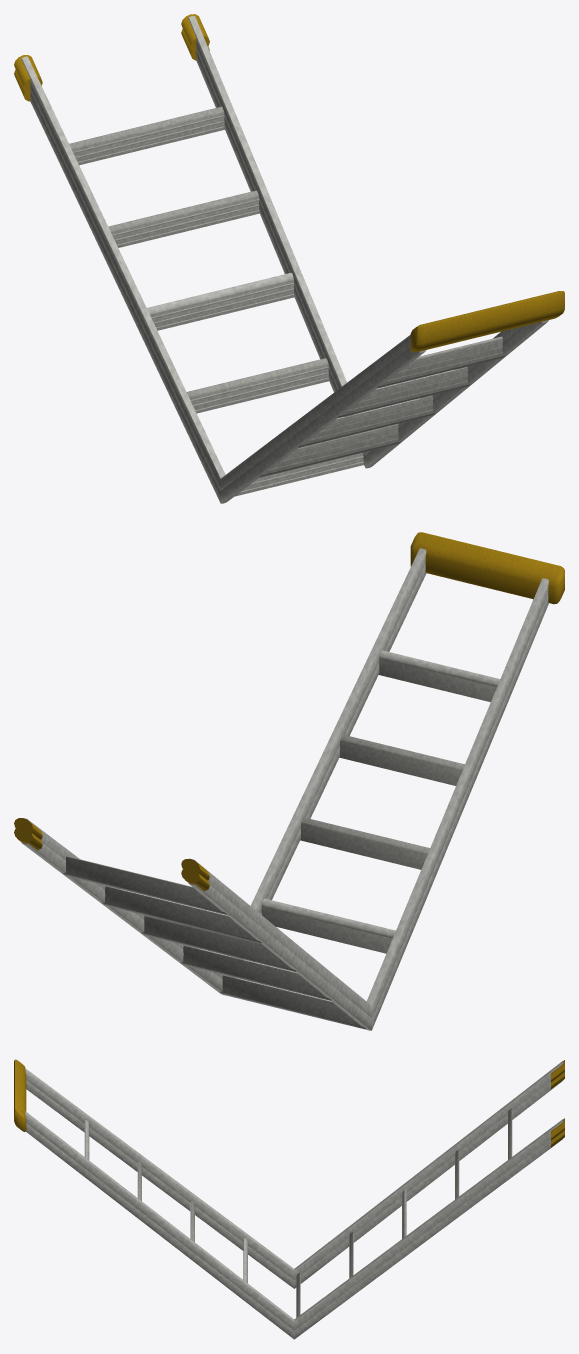
The model's file is ladder_bent.glb.
The picture shows the model from 3 angles, top to bottom: view 1: azimuth 30°, elevation 25°; view 2: azimuth 150°, elevation 25°; view 3: azimuth 270°, elevation 25°; orthographic projection. The views are drawn at different scales.
Visible parts, largest first — view 1: Ladder_Bent_steps, Ladder_Bent_rails, Ladder_Bent_cap, Ladder_Bent_feet; view 2: Ladder_Bent_rails, Ladder_Bent_steps, Ladder_Bent_cap, Ladder_Bent_feet; view 3: Ladder_Bent_rails, Ladder_Bent_steps, Ladder_Bent_cap, Ladder_Bent_feet.
Part boxes in pixels (box(x1,y1,x2,y2)): Ladder_Bent_steps: box(69, 106, 505, 496); Ladder_Bent_rails: box(21, 16, 548, 503); Ladder_Bent_cap: box(410, 291, 564, 352); Ladder_Bent_feet: box(14, 14, 209, 101); Ladder_Bent_rails: box(21, 548, 548, 1030); Ladder_Bent_steps: box(63, 658, 496, 1029); Ladder_Bent_cap: box(410, 532, 564, 604); Ladder_Bent_feet: box(14, 818, 209, 890); Ladder_Bent_rails: box(25, 1061, 563, 1339); Ladder_Bent_steps: box(84, 1108, 512, 1317); Ladder_Bent_cap: box(14, 1059, 26, 1131); Ladder_Bent_feet: box(551, 1060, 564, 1147).
Size of the model in its own units: 0.668 by 1.1 by 2.39.
3 materials, 3 textured.
